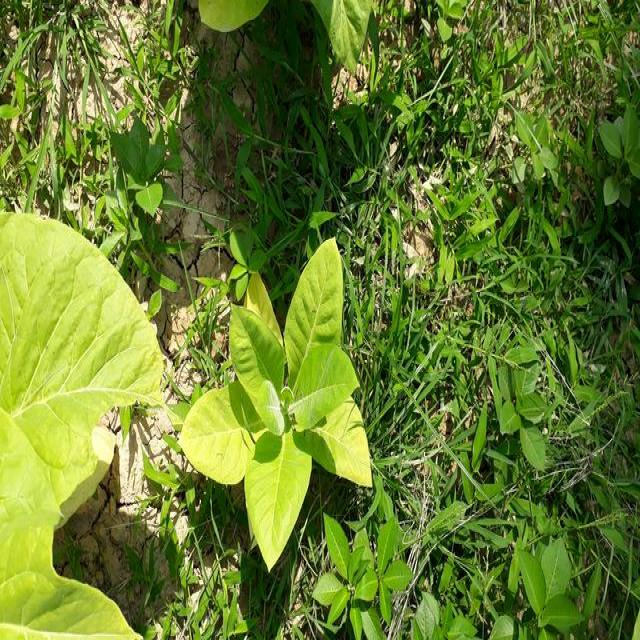crop: (175, 232, 386, 568)
